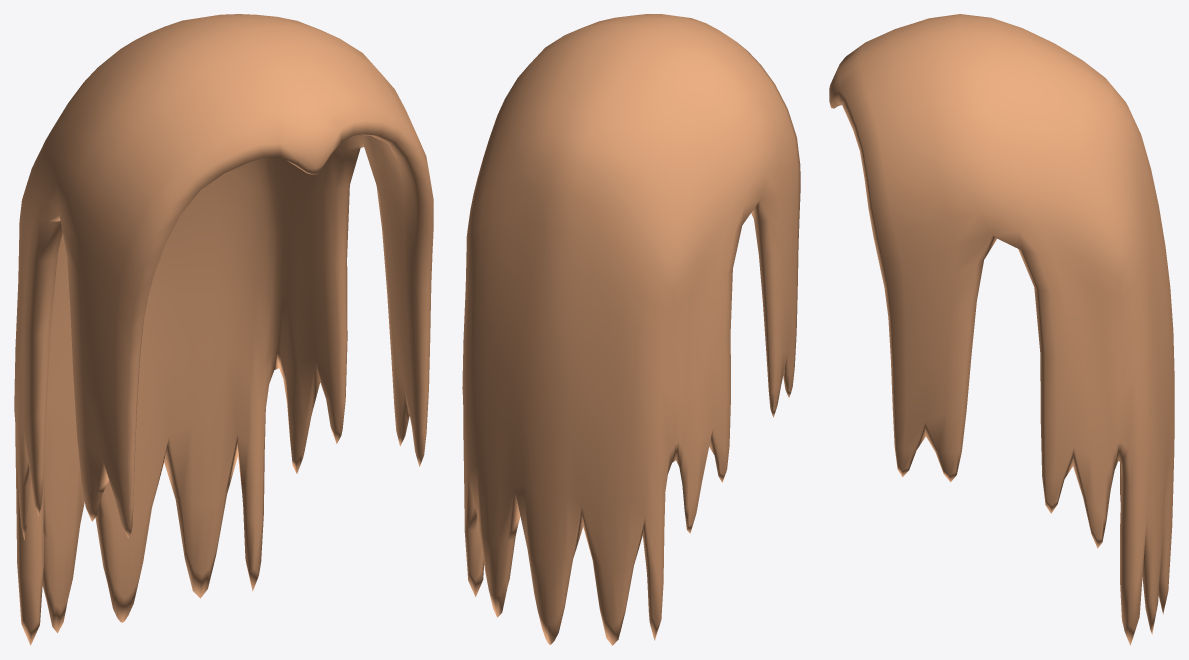
File: hair-7.fbx
3 renders of one model, left to right at view 1: azimuth 30°, elevation 25°; view 2: azimuth 150°, elevation 25°; view 3: azimuth 270°, elevation 25°, orthographic. The views are drawn at different scales.
Parts seen in each view (by area): view 1: Hair; view 2: Hair; view 3: Hair.
Part boxes in pixels (<box>): Hair: <box>14,14,433,645</box>; Hair: <box>462,14,800,645</box>; Hair: <box>829,14,1174,645</box>.
Size of the model in its own units: 65.22 by 128 by 68.38.
